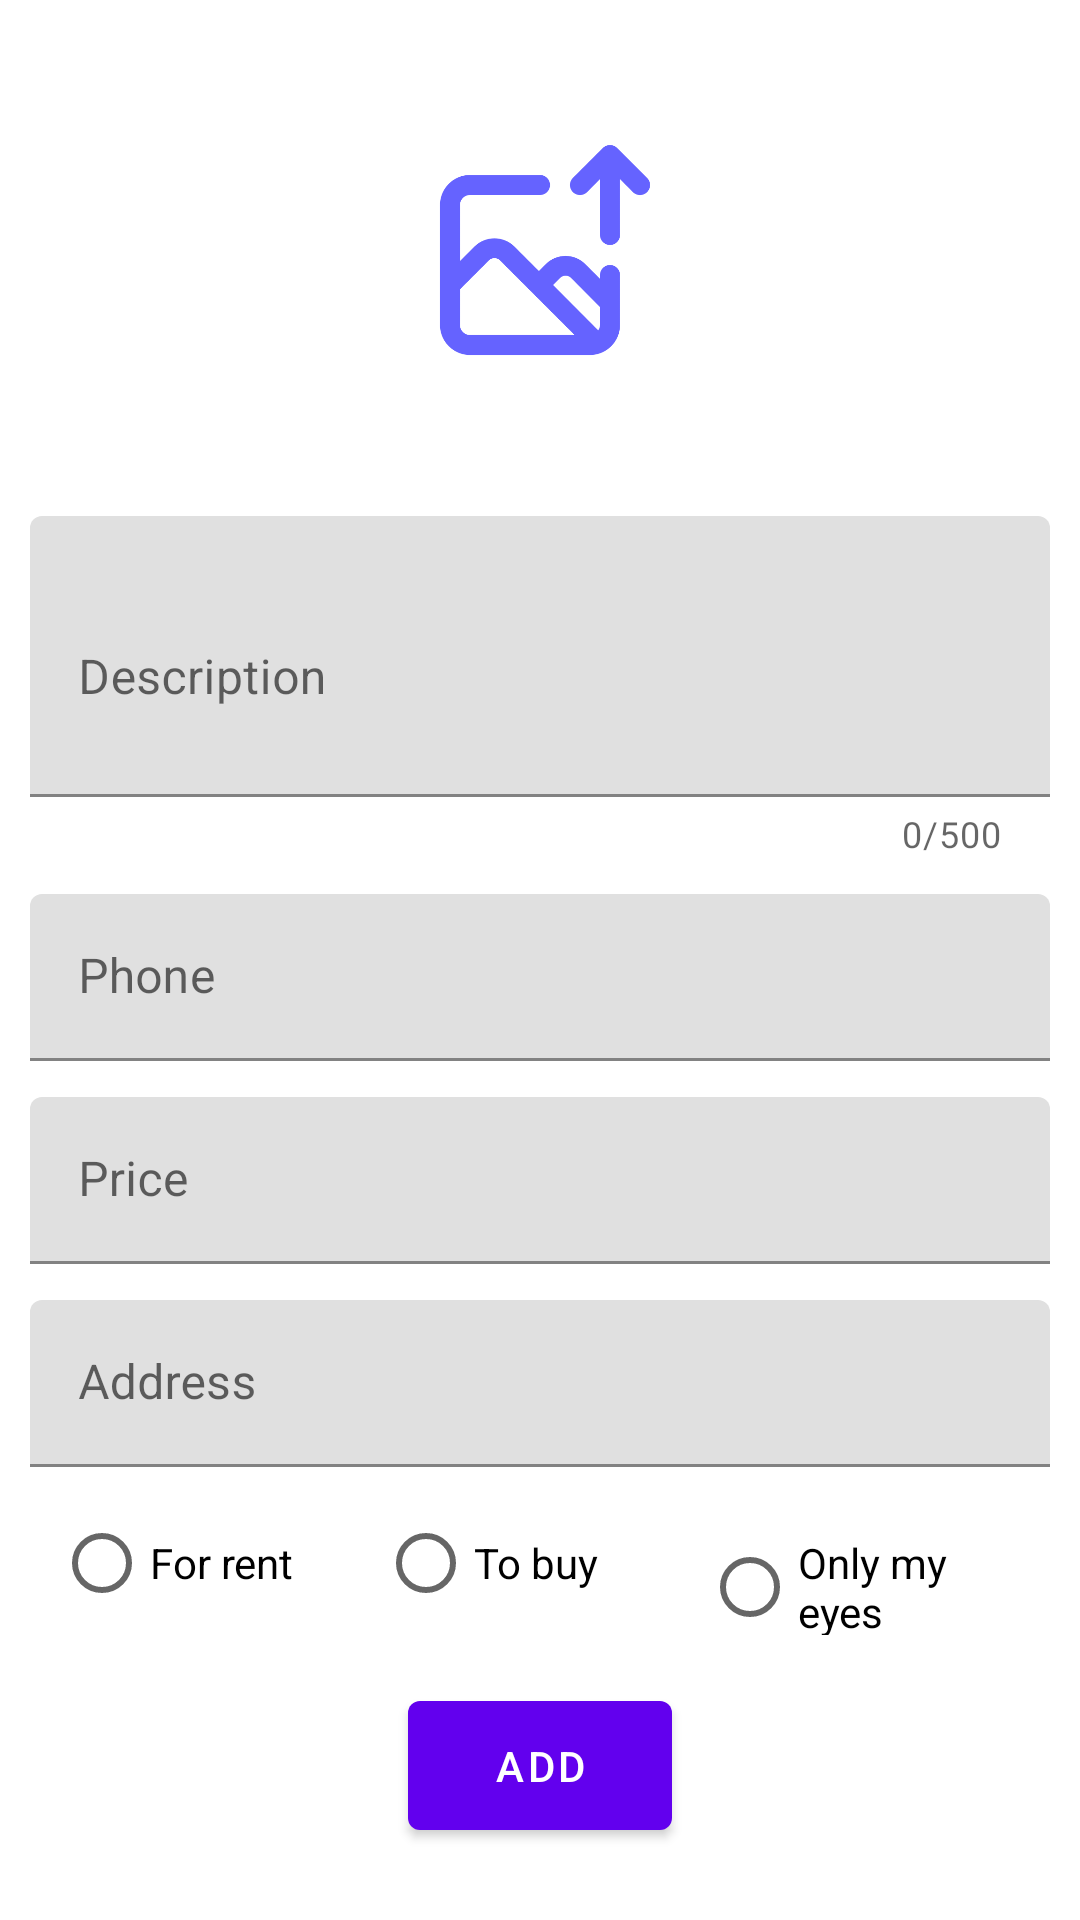

Icon click points for this 1080 × 1920 phone screenshot, format (x,y):
upload: (545,250)
